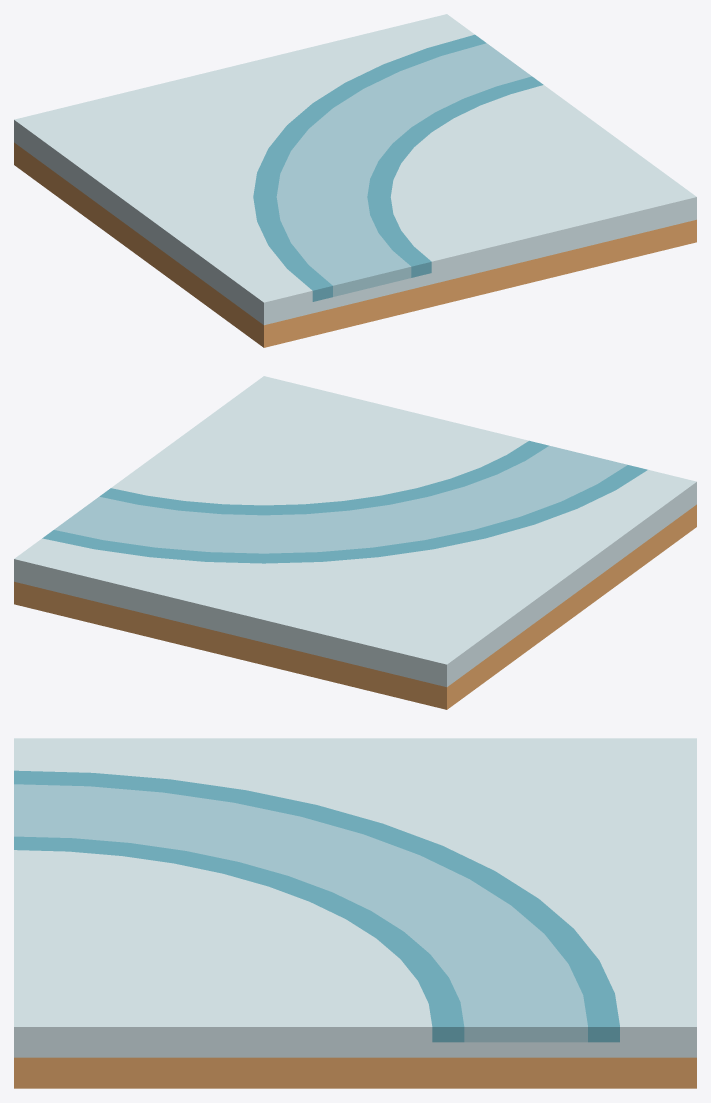
Rendered from snow_tile_cornerLarge(+).fbx.
3 renders of one model, top to bottom at view 1: azimuth 30°, elevation 25°; view 2: azimuth 150°, elevation 25°; view 3: azimuth 270°, elevation 25°, orthographic. The views are drawn at different scales.
Visible parts, largest first — view 1: Mesh_2; view 2: Mesh_2; view 3: Mesh_2.
Part boxes in pixels (box(x1,y1,x2,y2)): Mesh_2: box(14, 14, 696, 347); Mesh_2: box(14, 376, 696, 709); Mesh_2: box(14, 738, 696, 1088).
Bounding box in the file's own units: 200 × 20 × 200.
